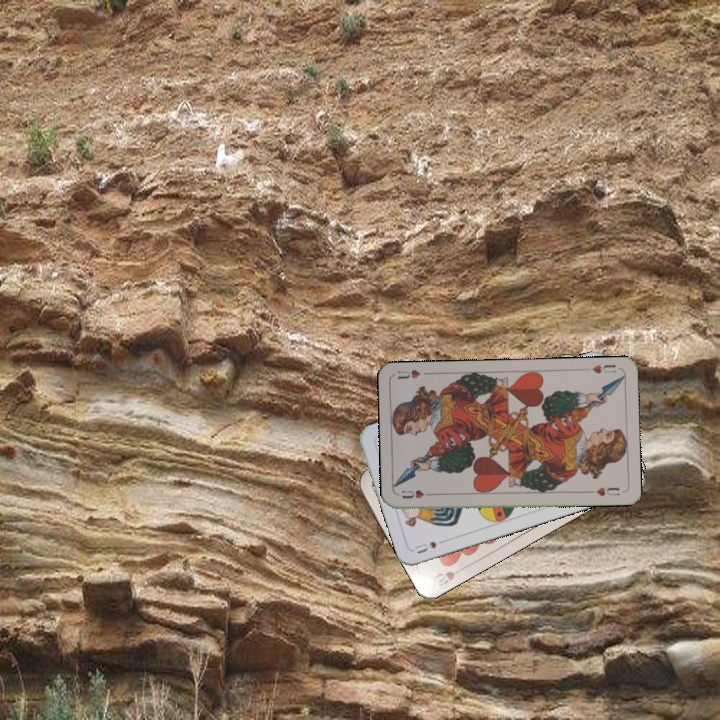H10: (429, 564, 467, 591)
HU: (398, 486, 436, 501), (588, 361, 618, 376)
SU: (411, 537, 439, 556)
